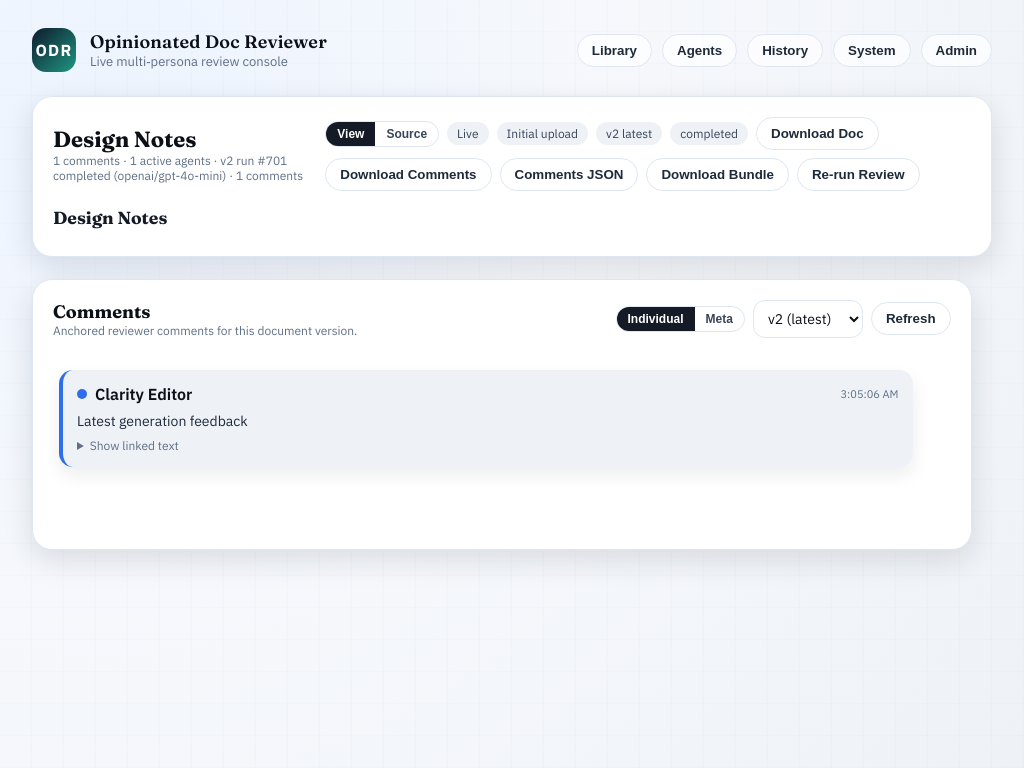
Test: review generation selector › switching generations scopes comments to the selected run only
expect the text "Latest generation feedback" is shown: met, box [77, 412, 248, 430]
Select "v1 · run #700 · completed · 1 comment" in the dropdown named "Review generation" at (808, 319), box [753, 300, 863, 338]
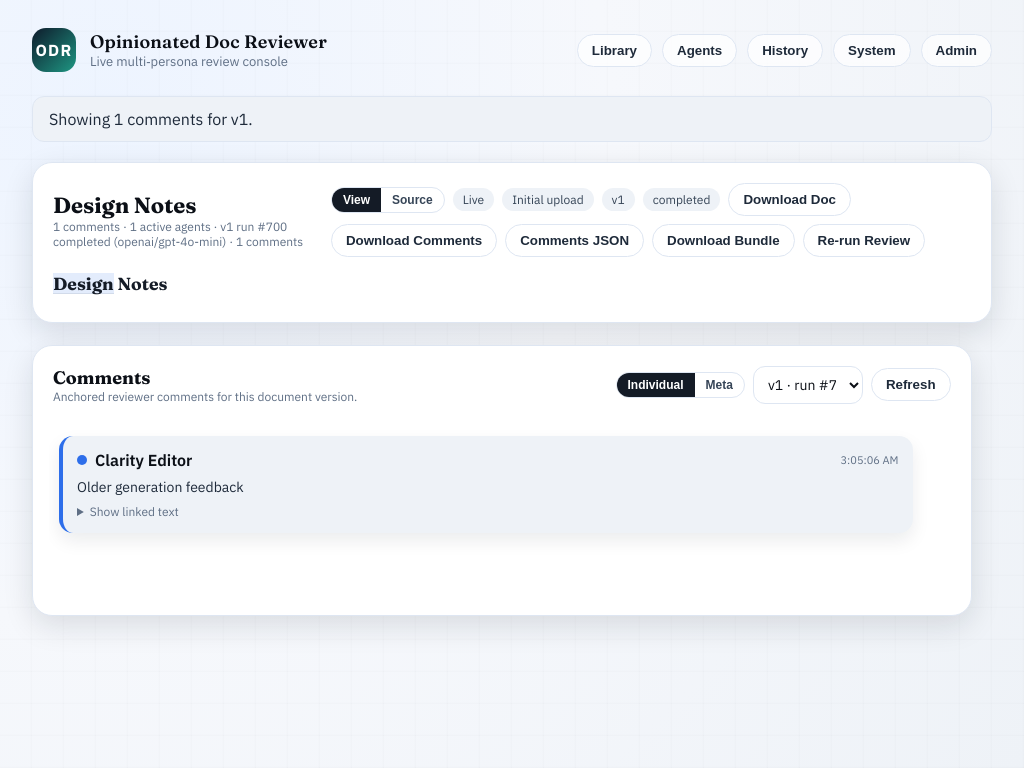
expect the text "Older generation feedback" is shown: met, box [77, 478, 244, 496]
expect the text "Latest generation feedback" is gone: met
